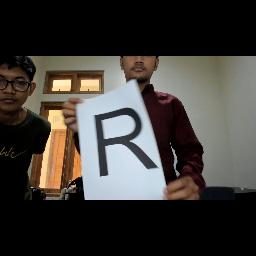r: (90, 102, 162, 186)
